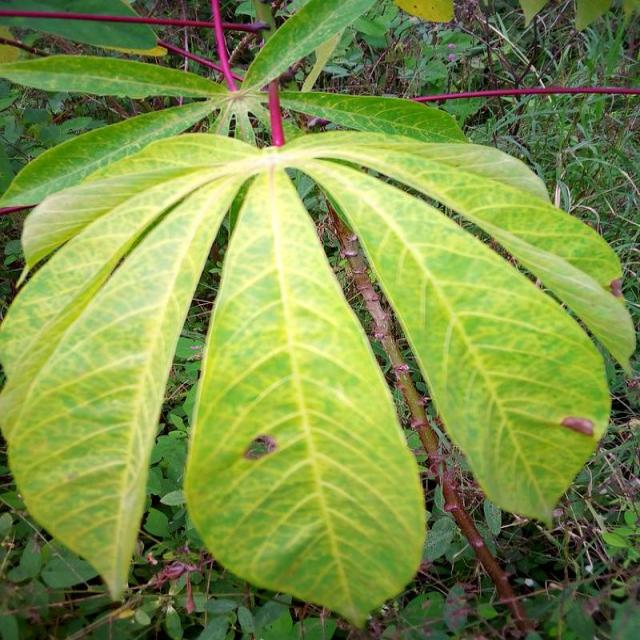cassava leaf: (2, 112, 634, 620), (284, 130, 617, 528), (1, 132, 261, 603), (183, 160, 428, 629)
